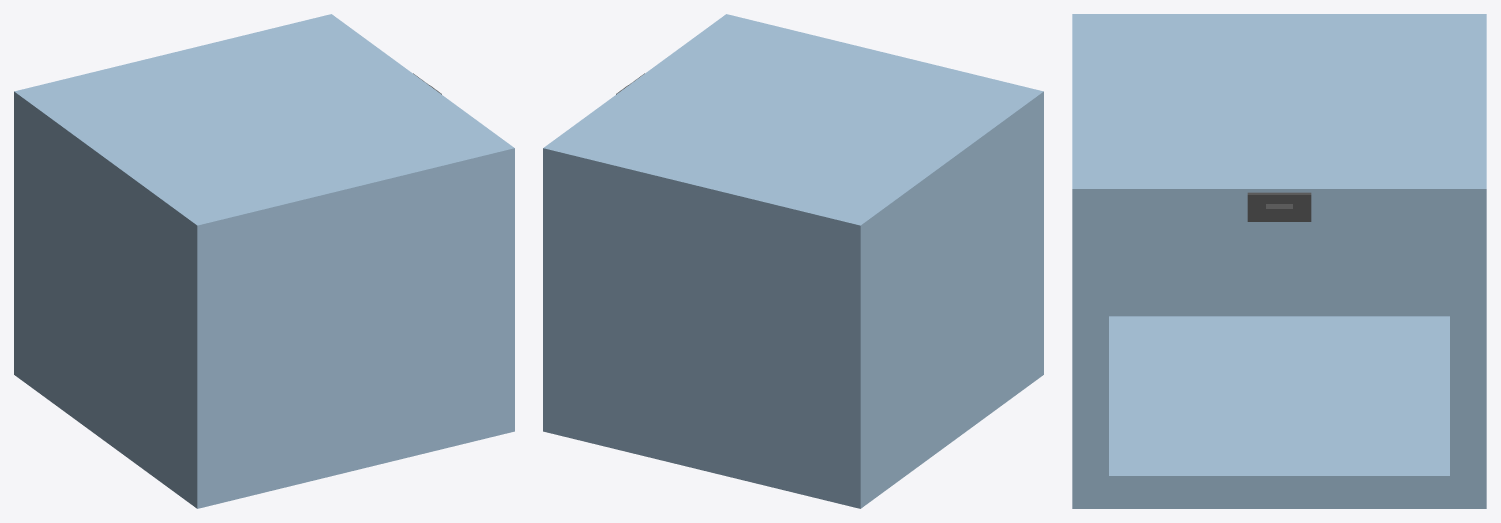
Rendered from Fuel_Cabinet_Body.fbx.
3 views of the same model, side by side, from view 1: azimuth 30°, elevation 25°; view 2: azimuth 150°, elevation 25°; view 3: azimuth 270°, elevation 25° (orthographic). The views are drawn at different scales.
Visible parts, largest first — view 1: Plane.006, Plane.008; view 2: Plane.006, Plane.008; view 3: Plane.006, Plane.008, Cube.
Boxes of the visible parts, box(x1,y1,x2,y2) form: Plane.006: box(14, 14, 514, 479); Plane.008: box(14, 345, 514, 508); Plane.006: box(543, 14, 1043, 479); Plane.008: box(543, 345, 1043, 508); Plane.006: box(1072, 14, 1486, 475); Plane.008: box(1072, 316, 1486, 508); Cube: box(1247, 192, 1311, 221).
Bounding box in the file's own units: 353 × 290 × 340.
